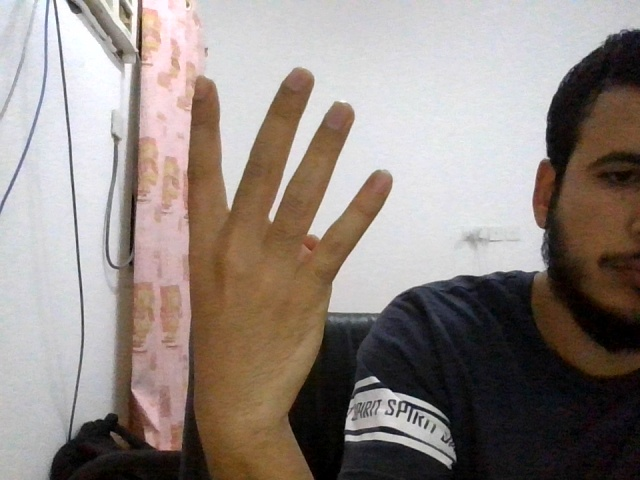Four: (189, 67, 395, 437)
